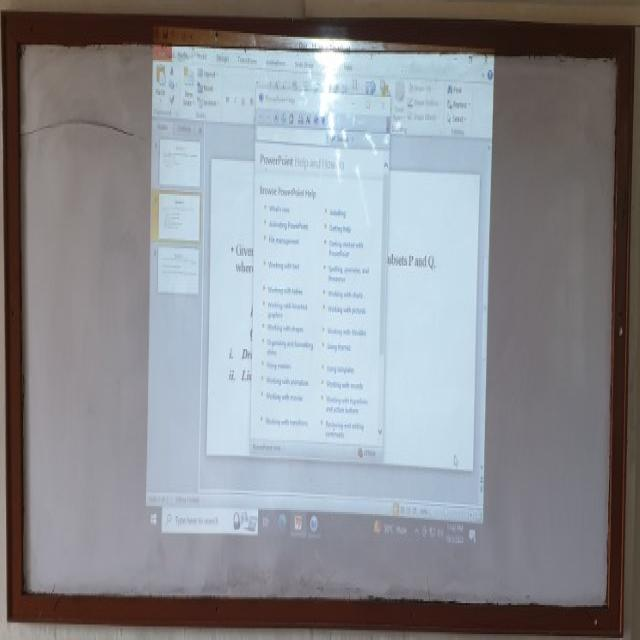Slide: (143, 24, 498, 542)
White-board: (15, 24, 626, 625)
